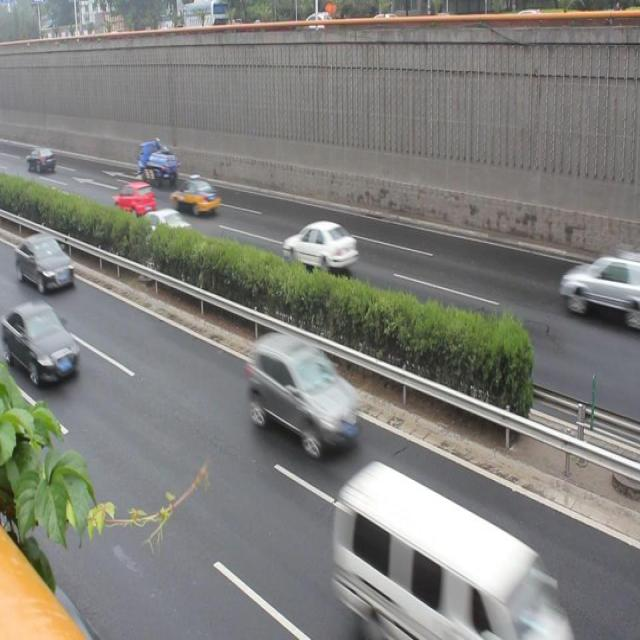bus: (133, 138, 176, 182)
car: (245, 325, 359, 454), (556, 244, 640, 330), (10, 296, 79, 388), (280, 214, 356, 278), (13, 225, 74, 298), (170, 170, 221, 220), (140, 200, 189, 250), (114, 176, 154, 219)
truck: (338, 451, 552, 640)
